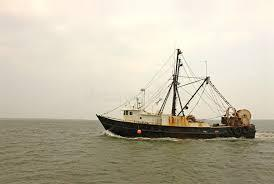Ship: (96, 46, 259, 142)
